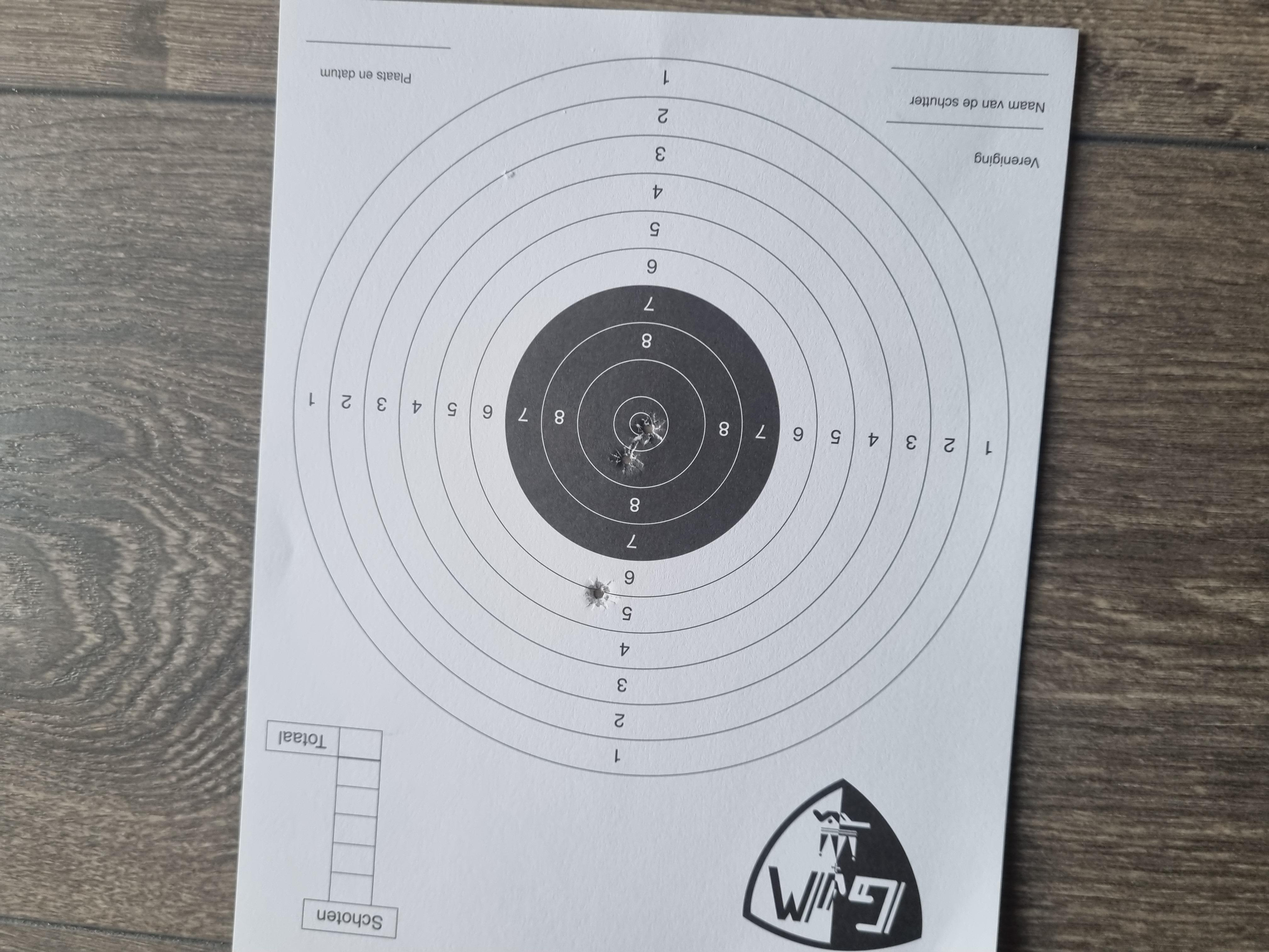hole: (639, 459, 681, 484), (677, 475, 719, 500), (459, 439, 498, 462)
